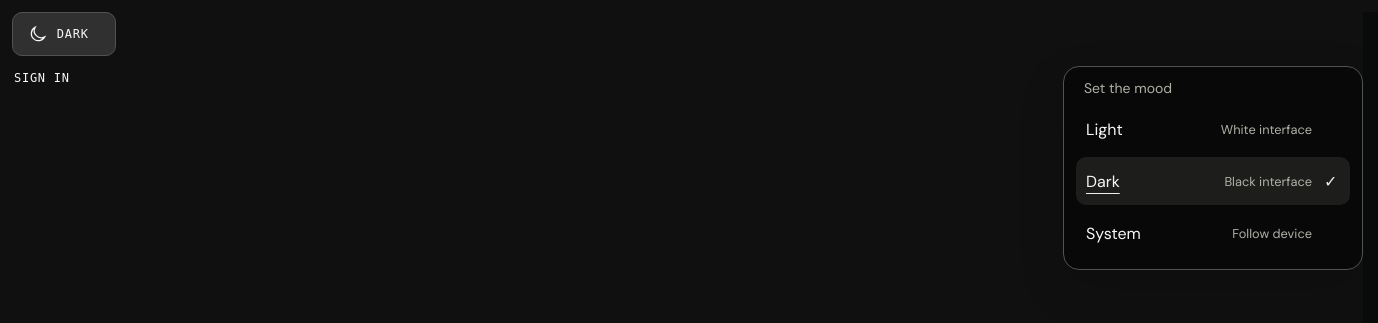
Test: closes the previous navbar dropdown immediately when another opens
Hover over the button with aria-label "Choose appearance".
mouse_move(64, 34)  # box x1=12 y1=12 x2=116 y2=56
Expected: the element named "Appearance" is shown, x1=1063 y1=66 x2=1363 y2=270
Hover over the button with aria-label "Sign in options".
mouse_move(42, 78)  # box x1=12 y1=56 x2=72 y2=100
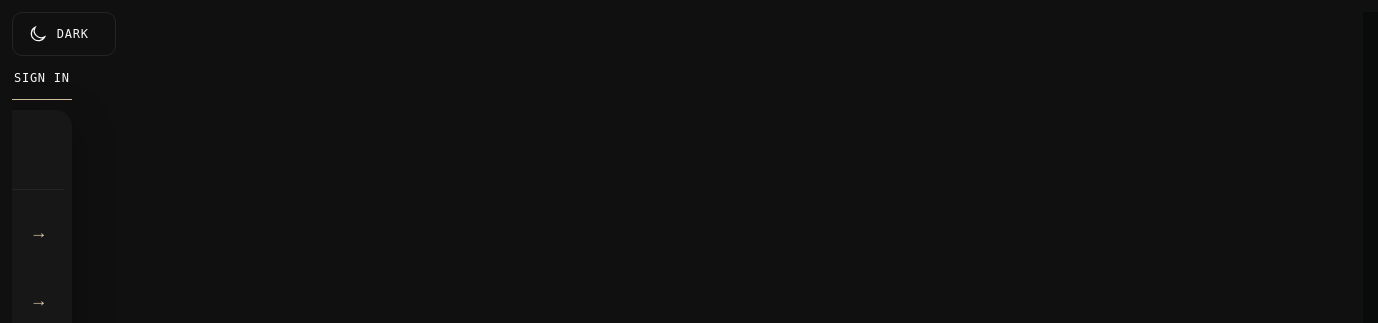
Expected: the element "Appearance" is gone
